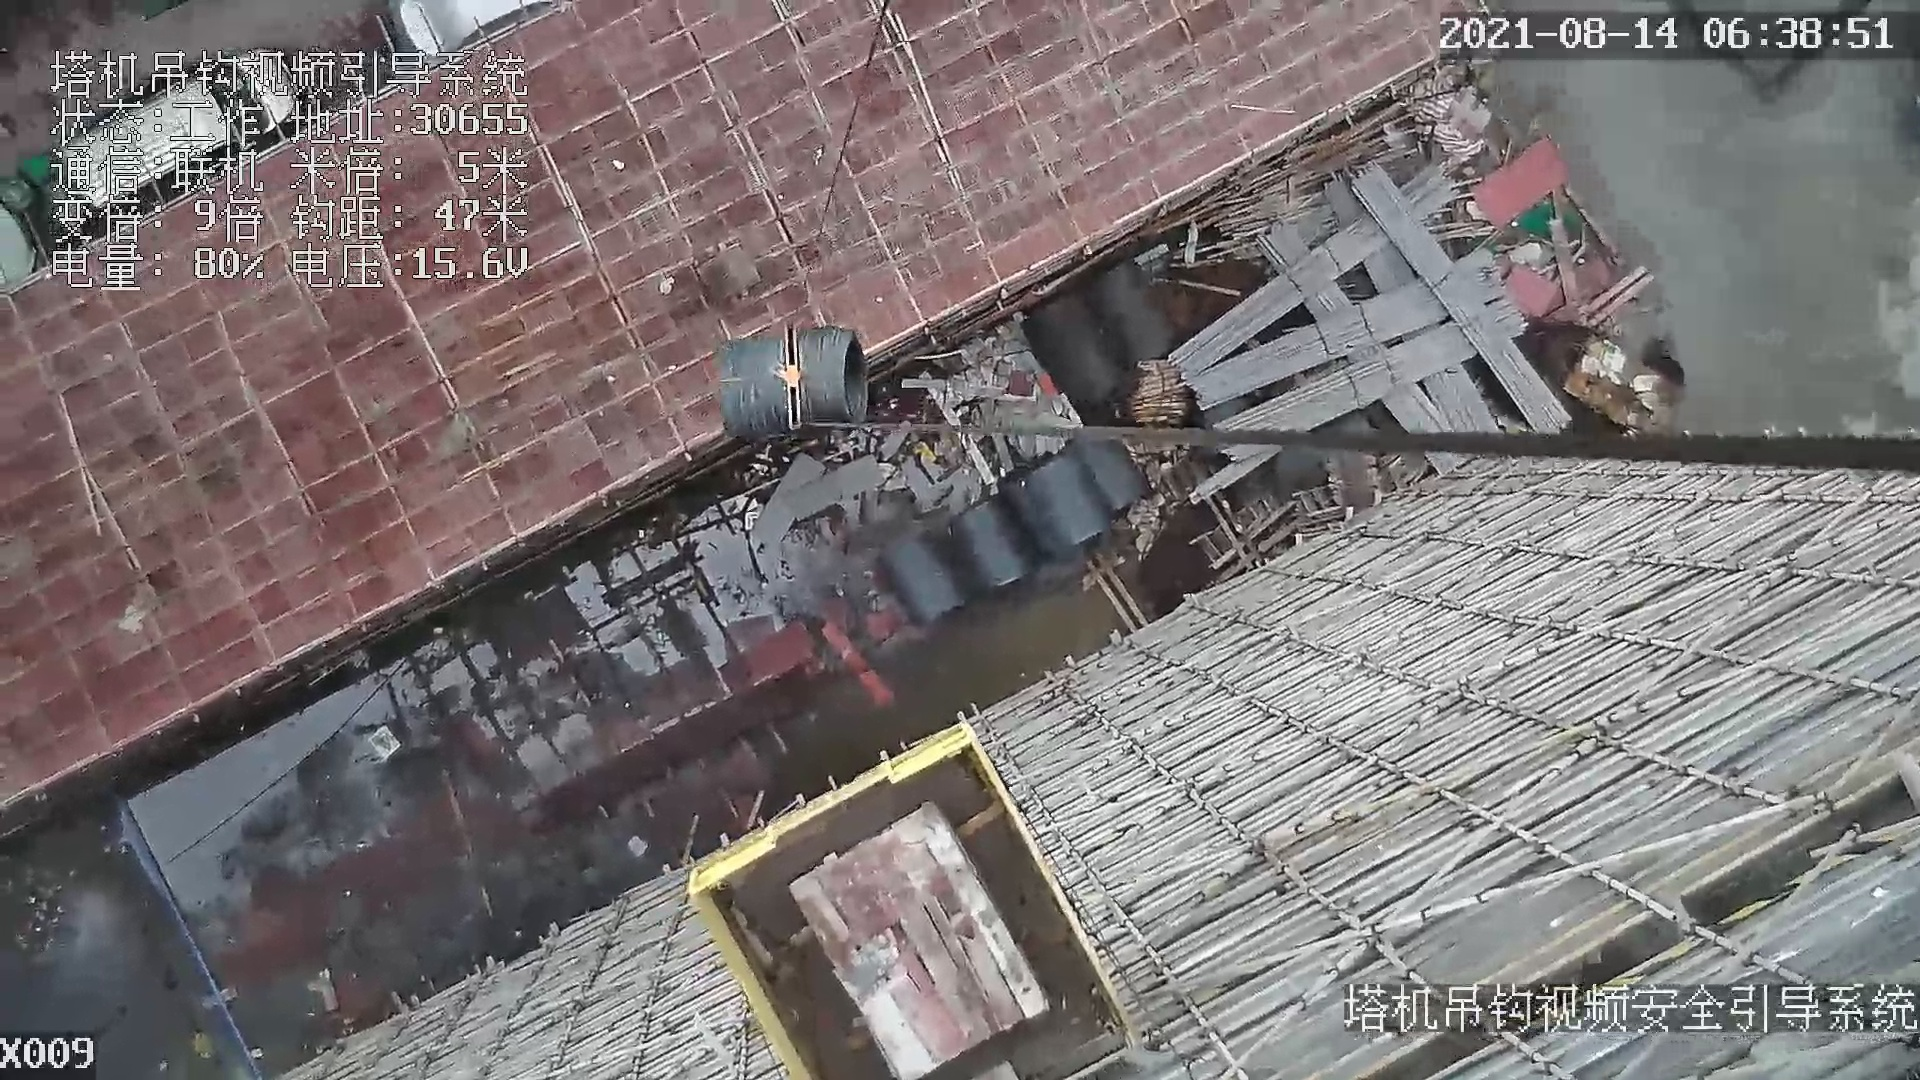hook: (765, 322, 820, 433)
